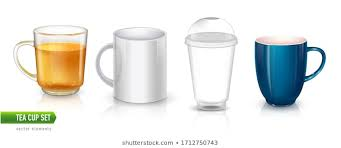cup: (95, 26, 183, 107), (9, 23, 89, 99), (252, 33, 328, 110)
